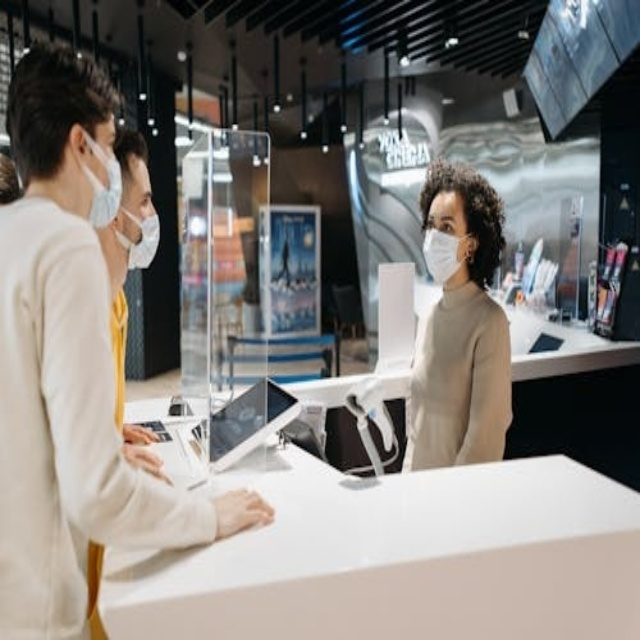Mascara: (79, 132, 123, 229), (422, 228, 472, 285), (120, 205, 161, 270)
Sin_gafas: (421, 211, 467, 238), (92, 125, 123, 161), (131, 180, 156, 209)
Sin_guantes: (209, 469, 284, 548)
